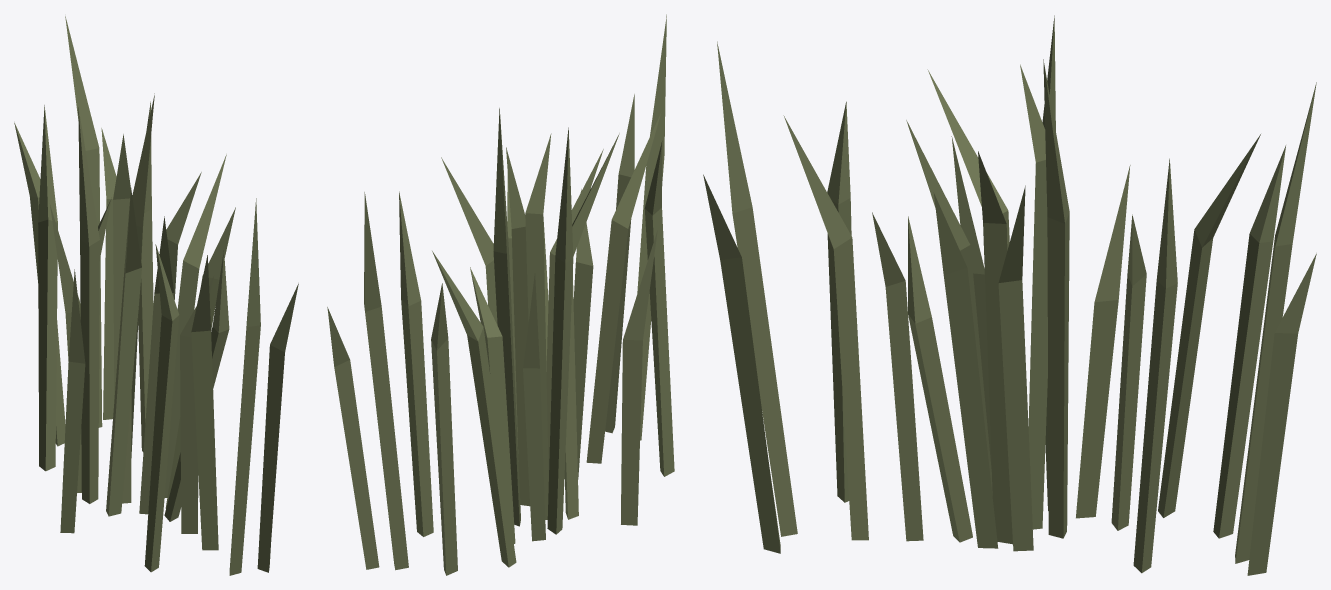
The model's file is SM_Env_Reeds_03.glb.
3 renders of one model, left to right at view 1: azimuth 30°, elevation 25°; view 2: azimuth 150°, elevation 25°; view 3: azimuth 270°, elevation 25°, orthographic. The views are drawn at different scales.
Visible parts, largest first — view 1: SM_Env_Reeds_03; view 2: SM_Env_Reeds_03; view 3: SM_Env_Reeds_03.
Part boxes in pixels (bbox=[...]): SM_Env_Reeds_03: bbox=[14, 16, 298, 575]; SM_Env_Reeds_03: bbox=[327, 14, 674, 575]; SM_Env_Reeds_03: bbox=[703, 15, 1316, 575].
Size of the model in its own units: 1.06 by 2.21 by 2.5.
Materials: 1 (1 with a texture image).
